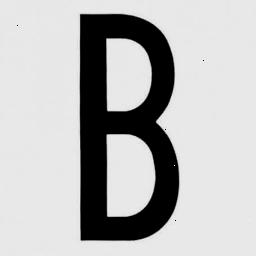b: (51, 0, 189, 252)
